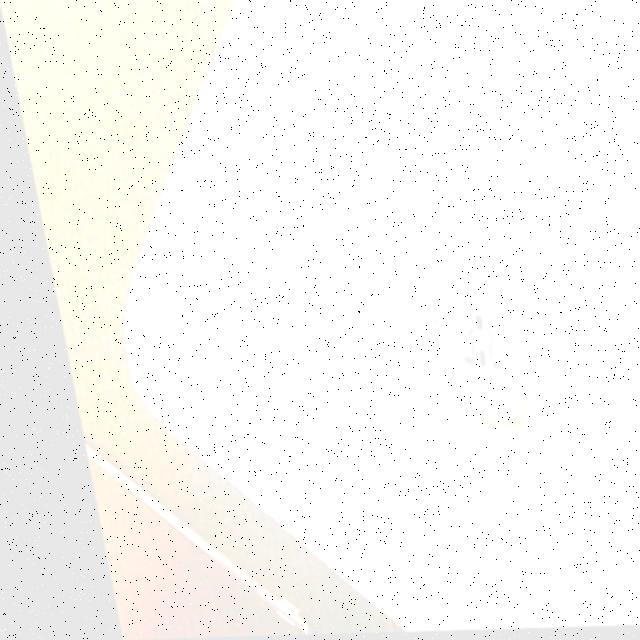adapter: (418, 301, 517, 428)
